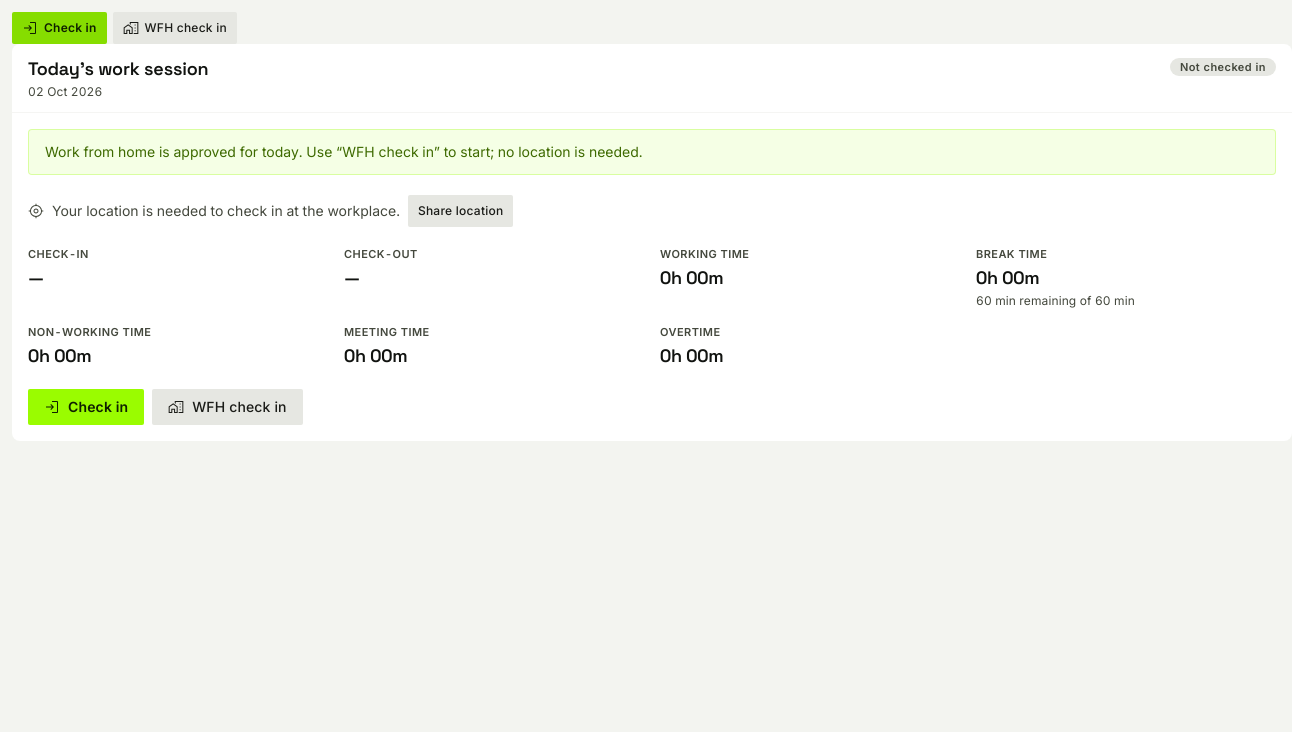
geofenced office check-in › offers WFH check-in without location when work from home is approved
Click the button "WFH check in" below "Non-working time" at x=227, y=407, box [152,389,303,425]
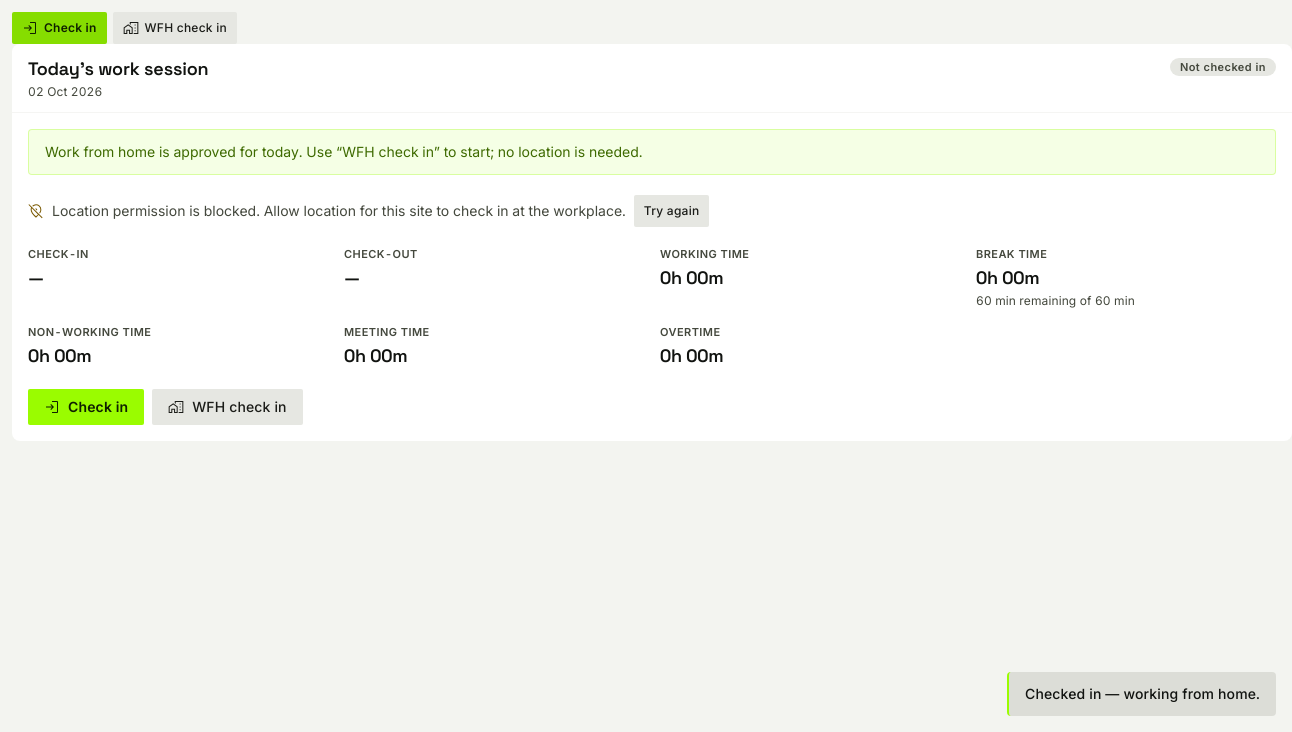
Check: the text "Checked in — working from home." is shown, box [1007,672,1276,716]
